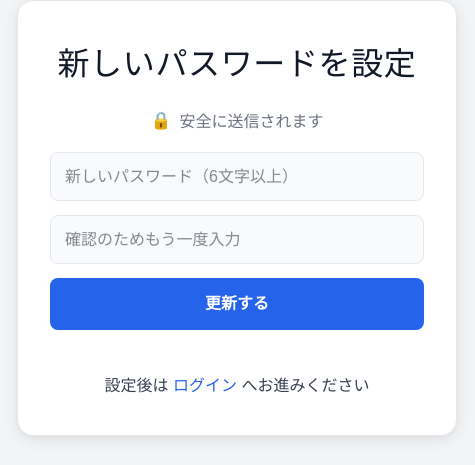
it: ResetPasswordForm › 通信が例外で失敗しても、エラーを出して、もう一度押せる（失敗の経路）
Expected: the button "更新する" is enabled, [50, 278, 424, 330]
Type "abcdef" into the password field labelled "新しいパスワード" at (237, 176), box [50, 152, 424, 201]
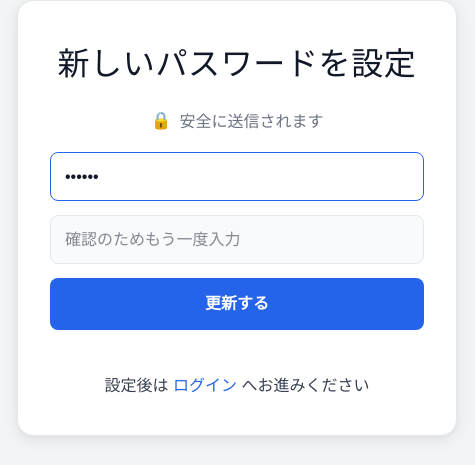
Type "abcdef" into the password field named "新しいパスワード（確認）" at (237, 240), box [50, 215, 424, 264]
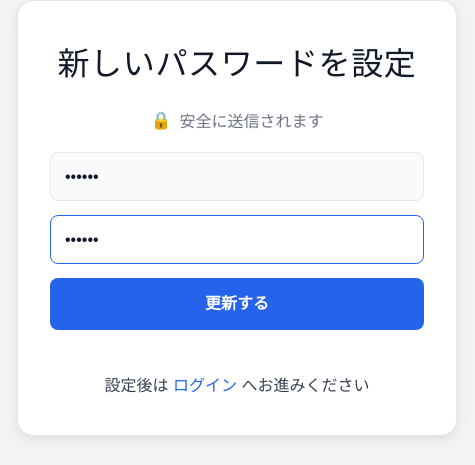
Click the button "更新する" at (237, 304), box [50, 278, 424, 330]
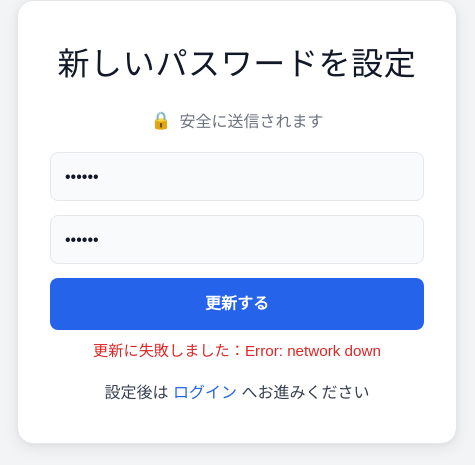
Result: the text "更新に失敗しました：Error: network down" is shown at [93, 342, 381, 358]
